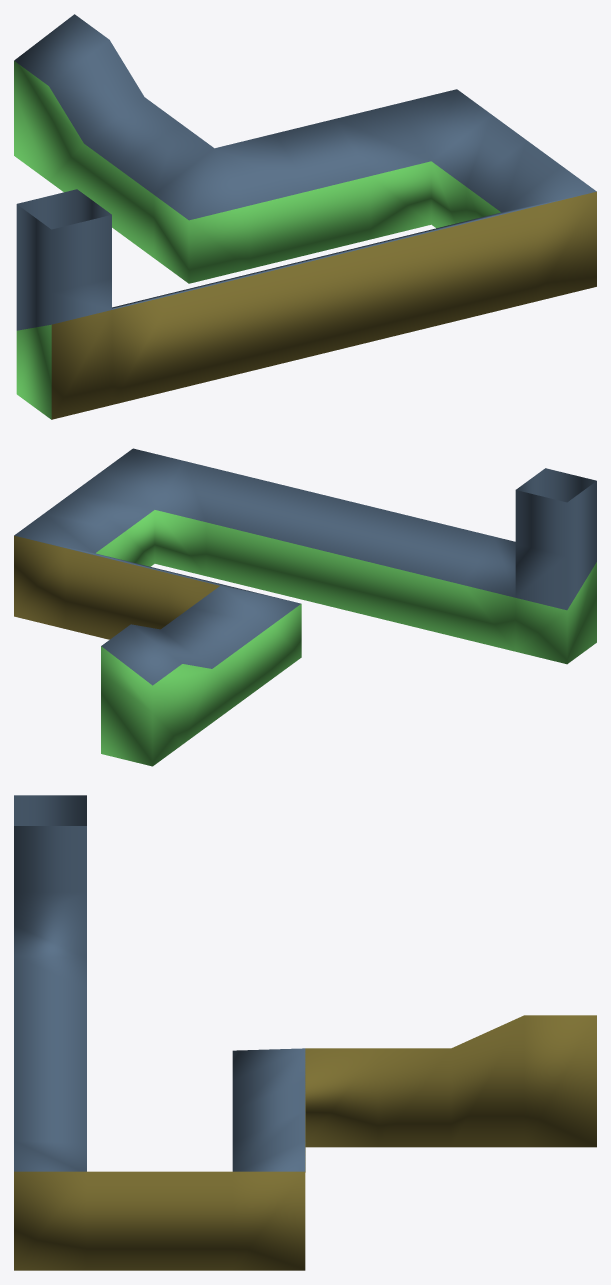
Rendered from test level.fbx.
3 renders of one model, top to bottom at view 1: azimuth 30°, elevation 25°; view 2: azimuth 150°, elevation 25°; view 3: azimuth 270°, elevation 25°, orthographic. The views are drawn at different scales.
Parts seen in each view (by area): view 1: Test_level; view 2: Test_level; view 3: Test_level.
Part boxes in pixels (x1,y1,x2,y2): Test_level: [14, 14, 596, 419]; Test_level: [14, 448, 596, 766]; Test_level: [14, 795, 596, 1270].
Bounding box in the file's own units: 2.37 × 0.7895 × 2.11.
